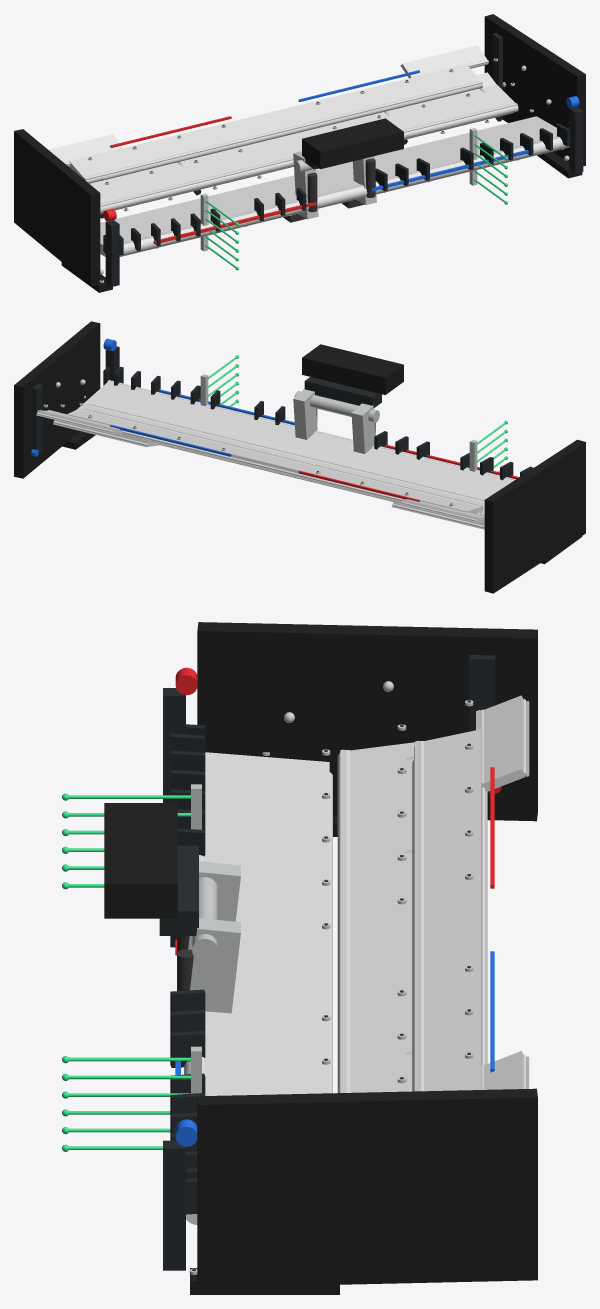
The model's file is f1_front_wing_aero_concept_assembly.glb.
The picture shows the model from 3 angles, top to bottom: view 1: azimuth 30°, elevation 25°; view 2: azimuth 150°, elevation 25°; view 3: azimuth 270°, elevation 25°; orthographic projection. The views are drawn at different scales.
Parts seen in each view (by area): view 1: =>[0:1:1:83], =>[0:1:1:6], =>[0:1:1:28], =>[0:1:1:17], =>[0:1:1:104], =>[0:1:1:8], =>[0:1:1:125], =>[0:1:1:19], =>[0:1:1:146], =>[0:1:1:72], =>[0:1:1:34], =>[0:1:1:50] (+17 smaller); view 2: =>[0:1:1:83], =>[0:1:1:6], =>[0:1:1:104], =>[0:1:1:28], =>[0:1:1:125], =>[0:1:1:17], =>[0:1:1:127], =>[0:1:1:8], =>[0:1:1:137], =>[0:1:1:131], =>[0:1:1:32], =>[0:1:1:19] (+12 smaller); view 3: =>[0:1:1:104], =>[0:1:1:83], =>[0:1:1:6], =>[0:1:1:17], =>[0:1:1:28], =>[0:1:1:125], =>[0:1:1:19], =>[0:1:1:50], =>[0:1:1:137], =>[0:1:1:108], =>[0:1:1:127], =>[0:1:1:30] (+12 smaller).
Part boxes in pixels (x1,y1,x2,y2): =>[0:1:1:83]: [14, 129, 100, 286]; =>[0:1:1:6]: [100, 116, 556, 256]; =>[0:1:1:28]: [69, 64, 480, 178]; =>[0:1:1:17]: [90, 84, 514, 203]; =>[0:1:1:104]: [484, 14, 585, 166]; =>[0:1:1:8]: [119, 136, 569, 256]; =>[0:1:1:125]: [302, 118, 403, 169]; =>[0:1:1:19]: [100, 102, 518, 212]; =>[0:1:1:146]: [101, 87, 467, 180]; =>[0:1:1:72]: [401, 45, 486, 78]; =>[0:1:1:34]: [85, 81, 482, 179]; =>[0:1:1:50]: [48, 134, 122, 162]; =>[0:1:1:83]: [484, 439, 585, 593]; =>[0:1:1:6]: [78, 383, 510, 499]; =>[0:1:1:104]: [14, 321, 100, 478]; =>[0:1:1:28]: [69, 410, 481, 514]; =>[0:1:1:125]: [302, 344, 403, 394]; =>[0:1:1:17]: [67, 405, 484, 515]; =>[0:1:1:127]: [304, 377, 381, 407]; =>[0:1:1:8]: [106, 381, 513, 482]; =>[0:1:1:137]: [293, 388, 317, 439]; =>[0:1:1:131]: [351, 403, 375, 453]; =>[0:1:1:32]: [122, 431, 402, 501]; =>[0:1:1:19]: [86, 404, 484, 502]; =>[0:1:1:104]: [197, 1088, 537, 1287]; =>[0:1:1:83]: [197, 622, 537, 821]; =>[0:1:1:6]: [196, 752, 329, 1222]; =>[0:1:1:17]: [350, 742, 414, 1092]; =>[0:1:1:28]: [424, 729, 482, 1091]; =>[0:1:1:125]: [104, 803, 177, 918]; =>[0:1:1:19]: [337, 750, 350, 1092]; =>[0:1:1:50]: [481, 695, 525, 791]; =>[0:1:1:137]: [190, 918, 240, 1013]; =>[0:1:1:108]: [163, 1140, 185, 1270]; =>[0:1:1:127]: [159, 845, 198, 935]; =>[0:1:1:30]: [414, 741, 423, 1091].
Bounding box in the file's own units: 1.87 × 0.389 × 0.7785.
